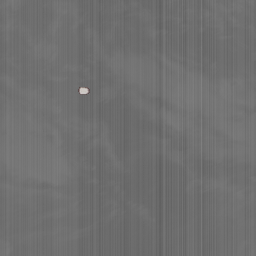Target: (77, 85, 91, 96)
